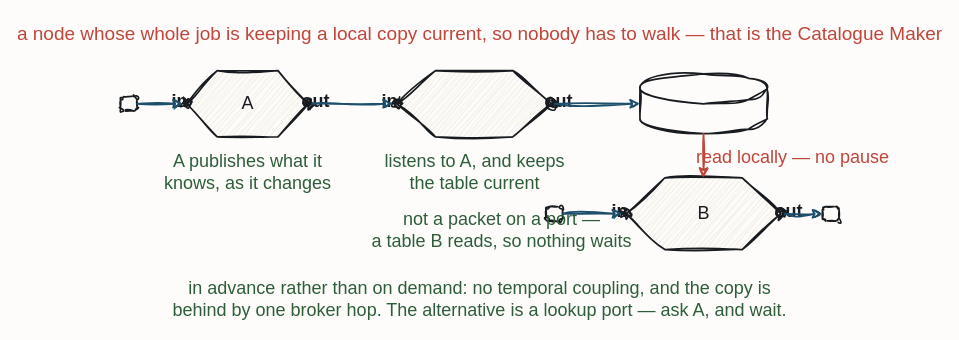
The diagram is 959 pixels wide and 340 high, and some of its shapes have lost their labels. Here are the shapes that lost their labels. From the top down, the box of each, then its label:
(396, 69, 552, 137): Build Lookup
(639, 73, 768, 134): lookup table
